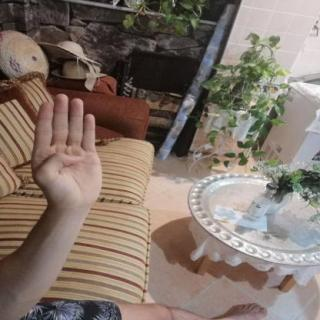KAAF: (18, 86, 116, 218)
